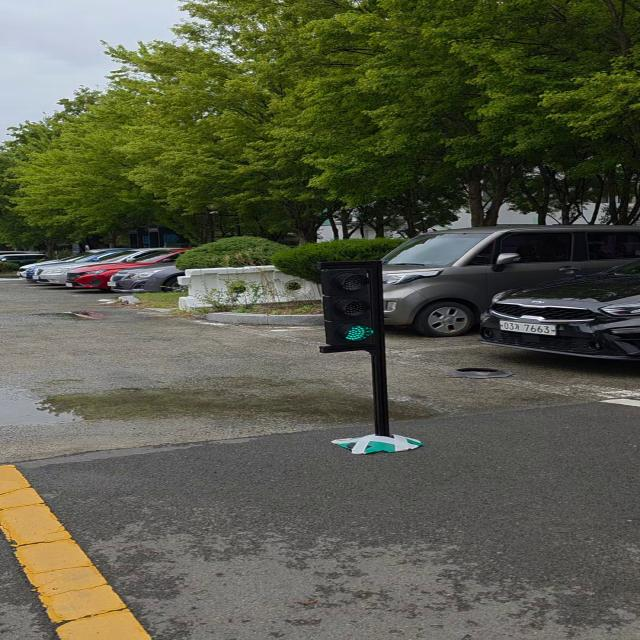green: (317, 261, 390, 349)
